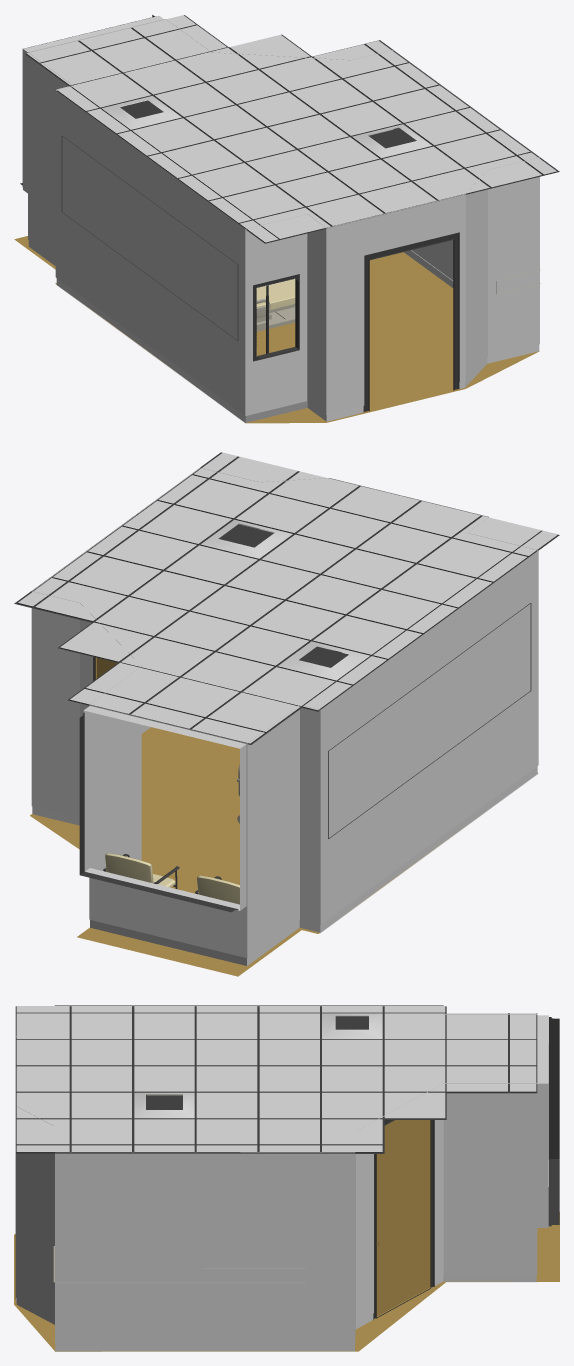
The model's file is RoomInProgress_NoUV.fbx.
3 views of the same model, one above another, from view 1: azimuth 30°, elevation 25°; view 2: azimuth 150°, elevation 25°; view 3: azimuth 270°, elevation 25° (orthographic). The views are drawn at different scales.
Visible parts, largest first — view 1: Walls, Ceiling, Floor, Mattress, Back_Wall, BaseFrame; view 2: Walls, Ceiling, Floor, Chair_Back_Cushion (×2), Back_Wall; view 3: Walls, Ceiling, Floor.
Boxes of the visible parts, x1=… form: Walls: x1=20, y1=15, x2=539, y2=423; Ceiling: x1=25, y1=15, x2=559, y2=243; Floor: x1=14, y1=236, x2=539, y2=423; Mattress: x1=256, y1=279, x2=295, y2=309; Back_Wall: x1=61, y1=135, x2=238, y2=340; BaseFrame: x1=256, y1=307, x2=295, y2=331; Walls: x1=31, y1=468, x2=538, y2=965; Ceiling: x1=14, y1=452, x2=559, y2=744; Floor: x1=30, y1=727, x2=537, y2=976; Chair_Back_Cushion (×2): x1=105, y1=853, x2=239, y2=904; Back_Wall: x1=328, y1=603, x2=531, y2=838; Walls: x1=15, y1=1005, x2=559, y2=1351; Ceiling: x1=15, y1=1006, x2=537, y2=1153; Floor: x1=14, y1=1212, x2=559, y2=1351.
Bounding box in the file's own units: 14.24 × 9.08 × 22.17.
